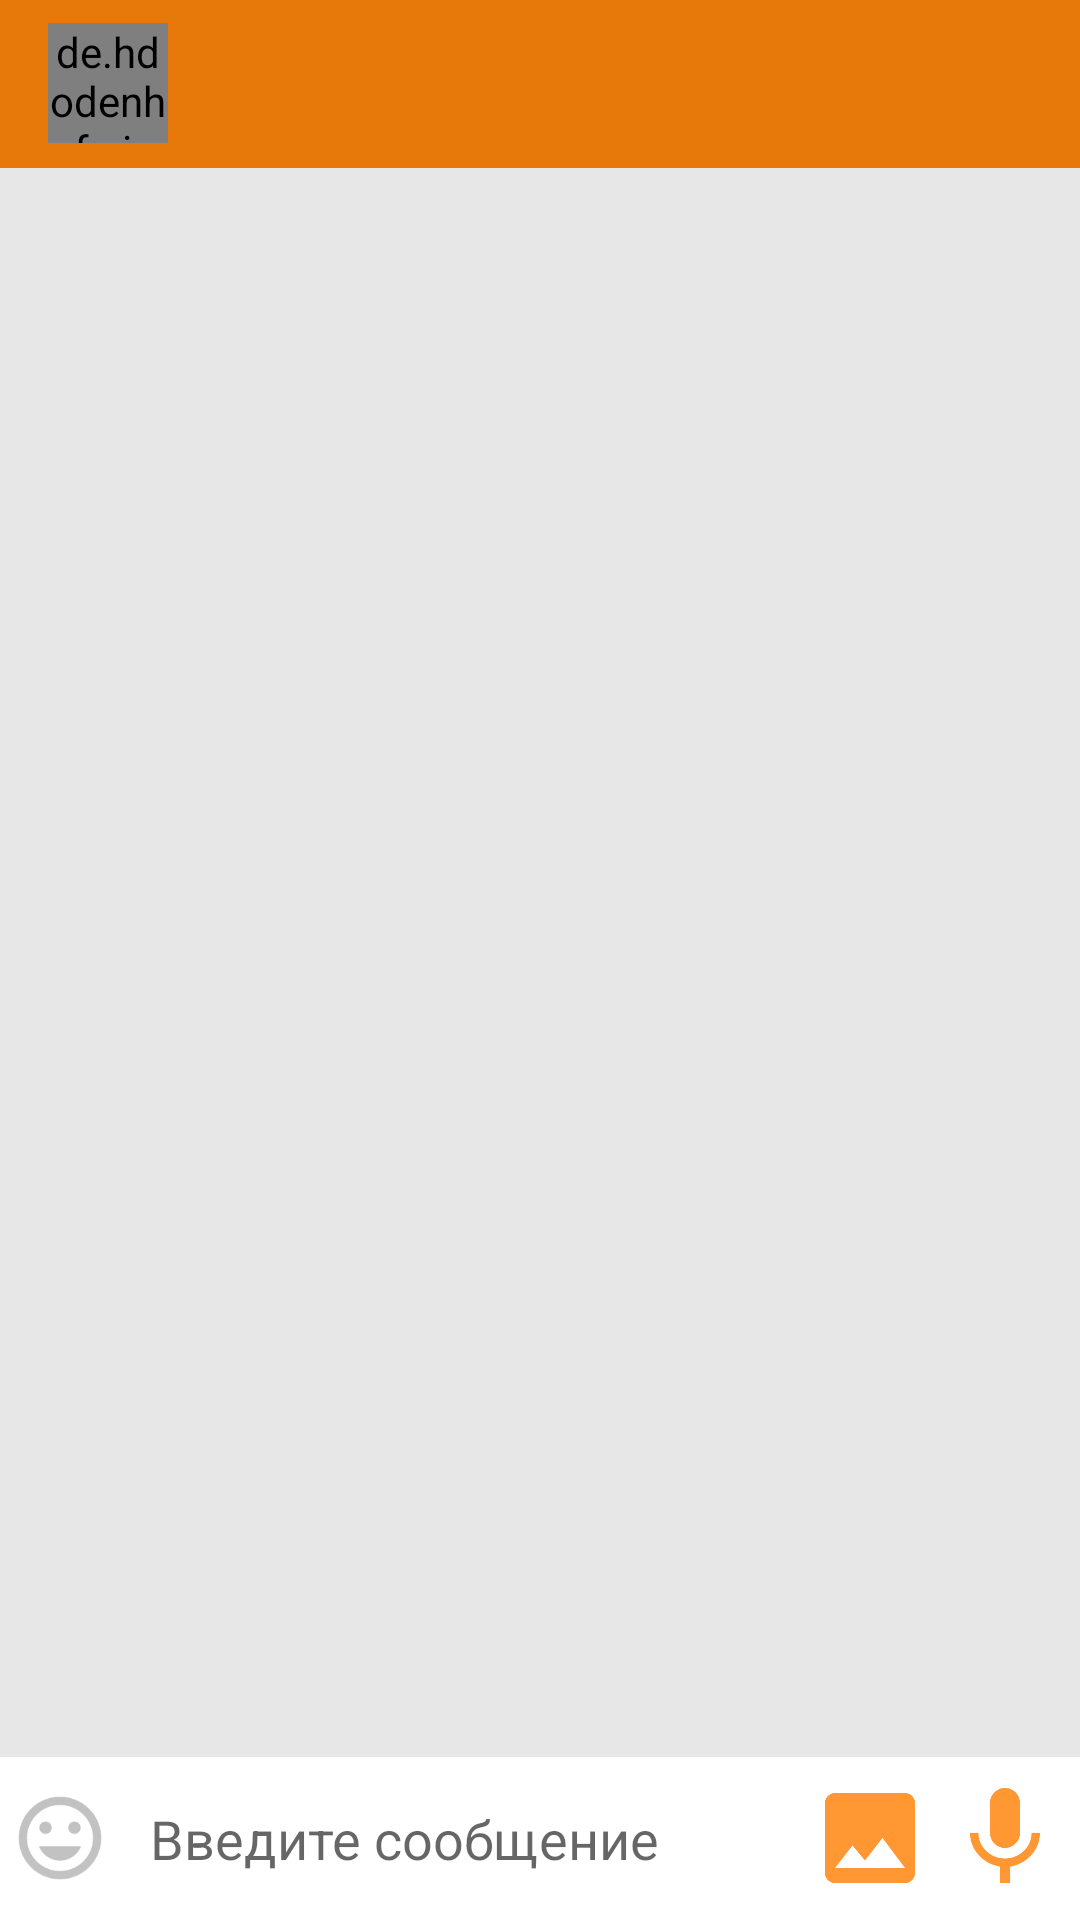

Icon click points for this 1080×1920 phone screenshot, format (x=x, y=y):
mic: (x=1005, y=1835)
